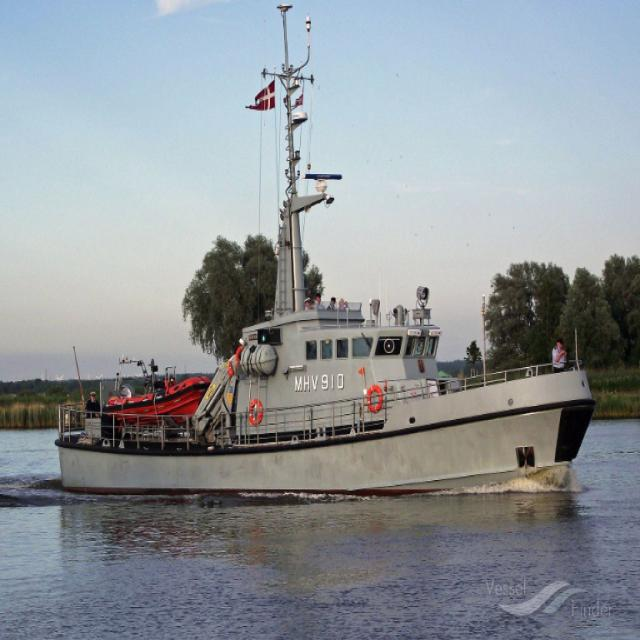Naval Ship: (56, 62, 593, 495)
